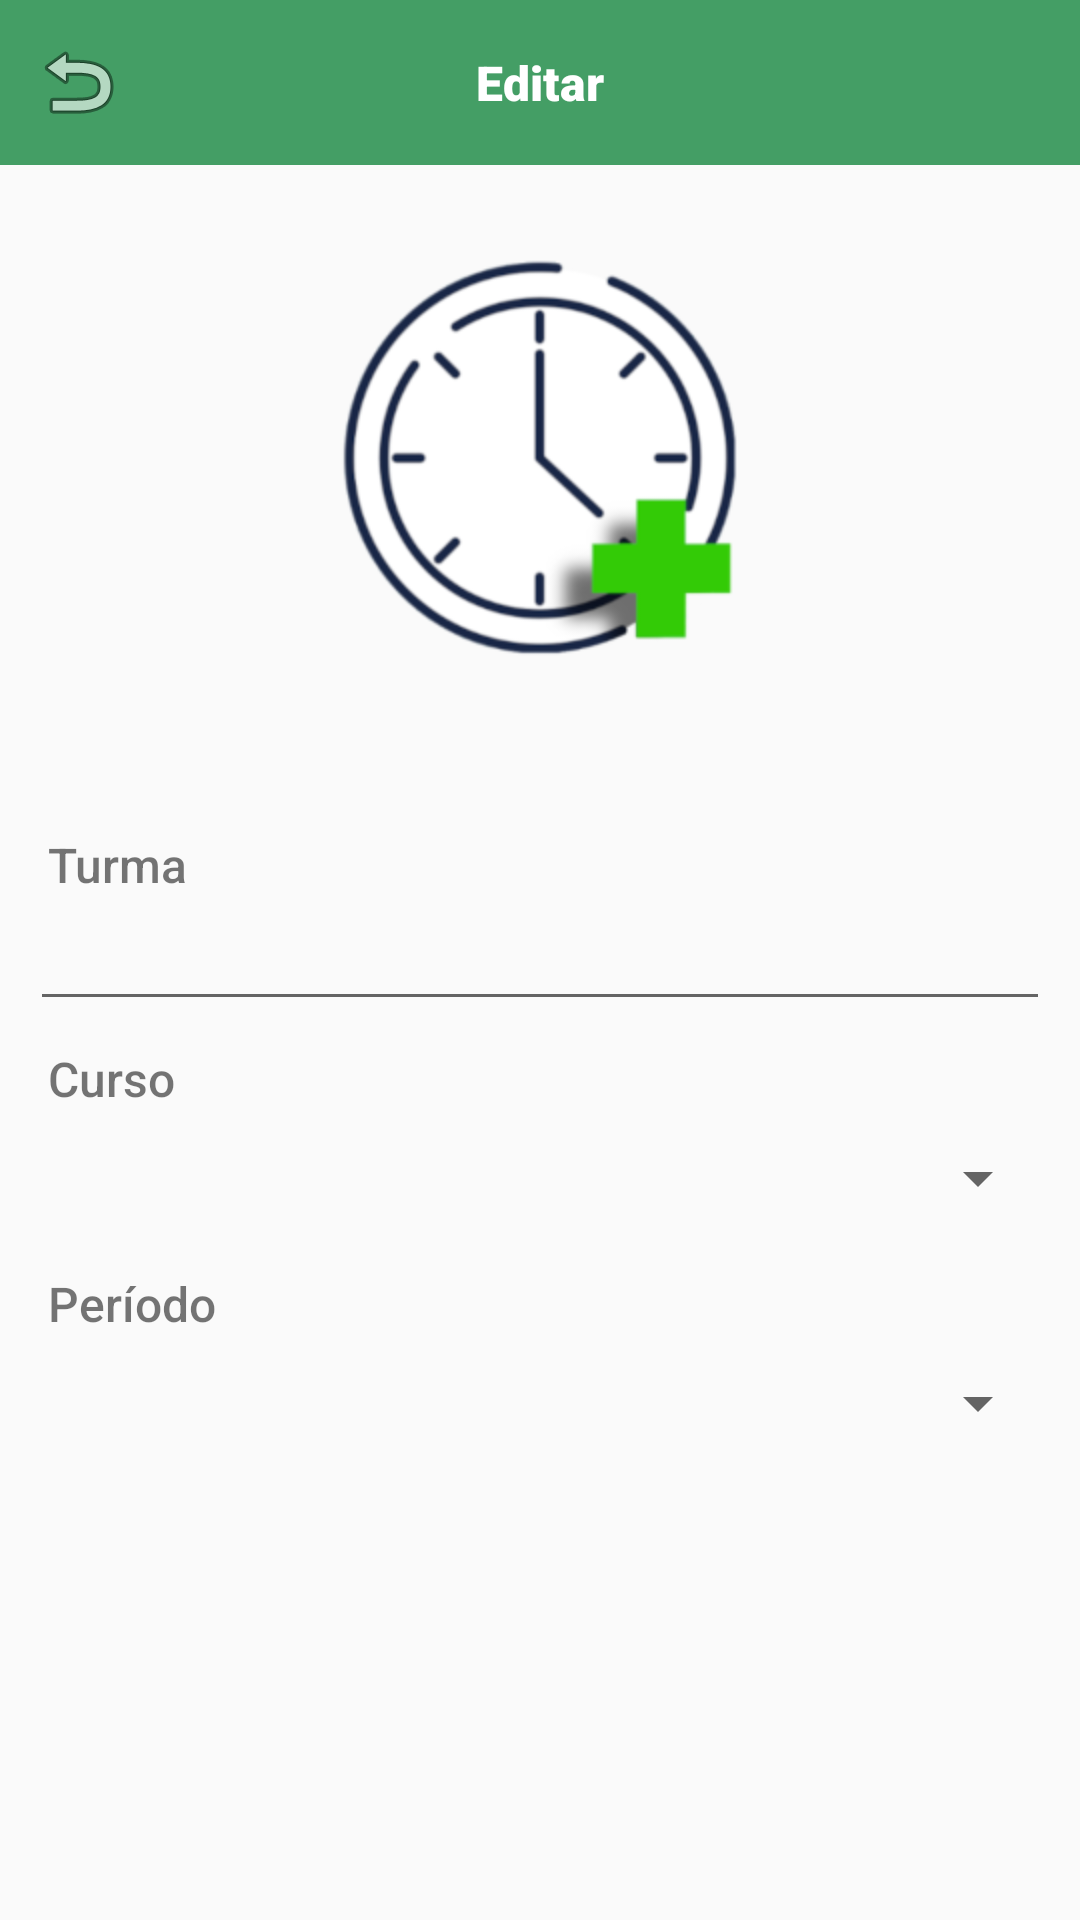

Where icons sit on this 1080*1920 app screen, as BBox(x1, y1, x2, y2):
revert: BBox(45, 52, 114, 114)
